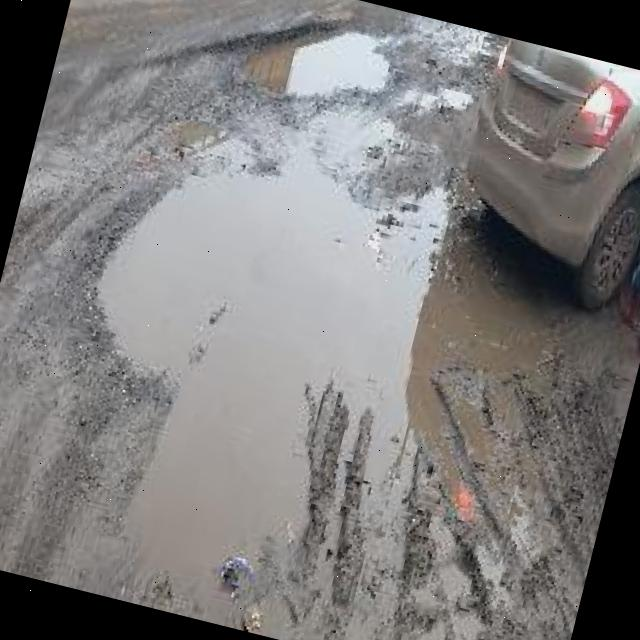stagnation: (67, 149, 603, 608), (215, 0, 414, 133)
